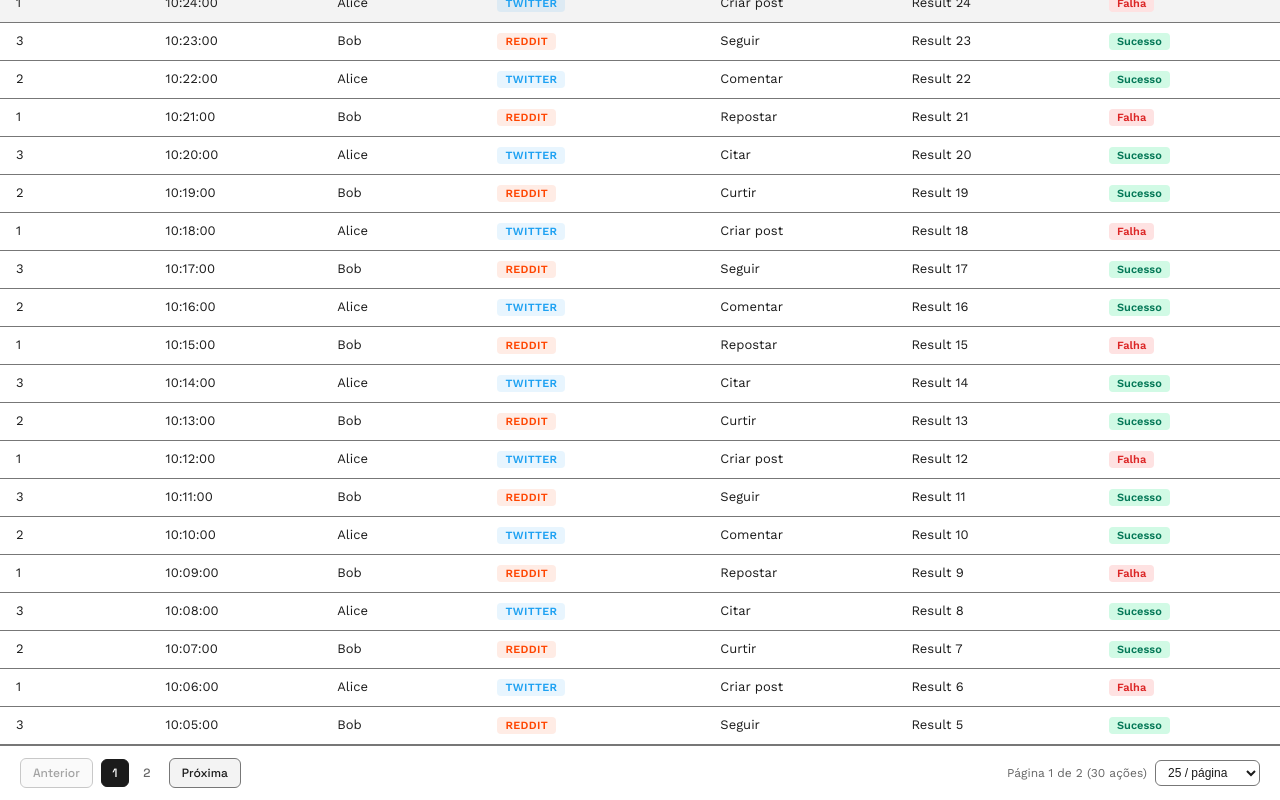
Test: ActionExplorer › shows only pageSize rows per page
The width and height of the screenshot is (1280, 800).
(page scrolled)
Note: Change page size to 10
Select "10 / página" in the dropdown at (1208, 773), box [1155,760,1260,786]
(page scrolled)
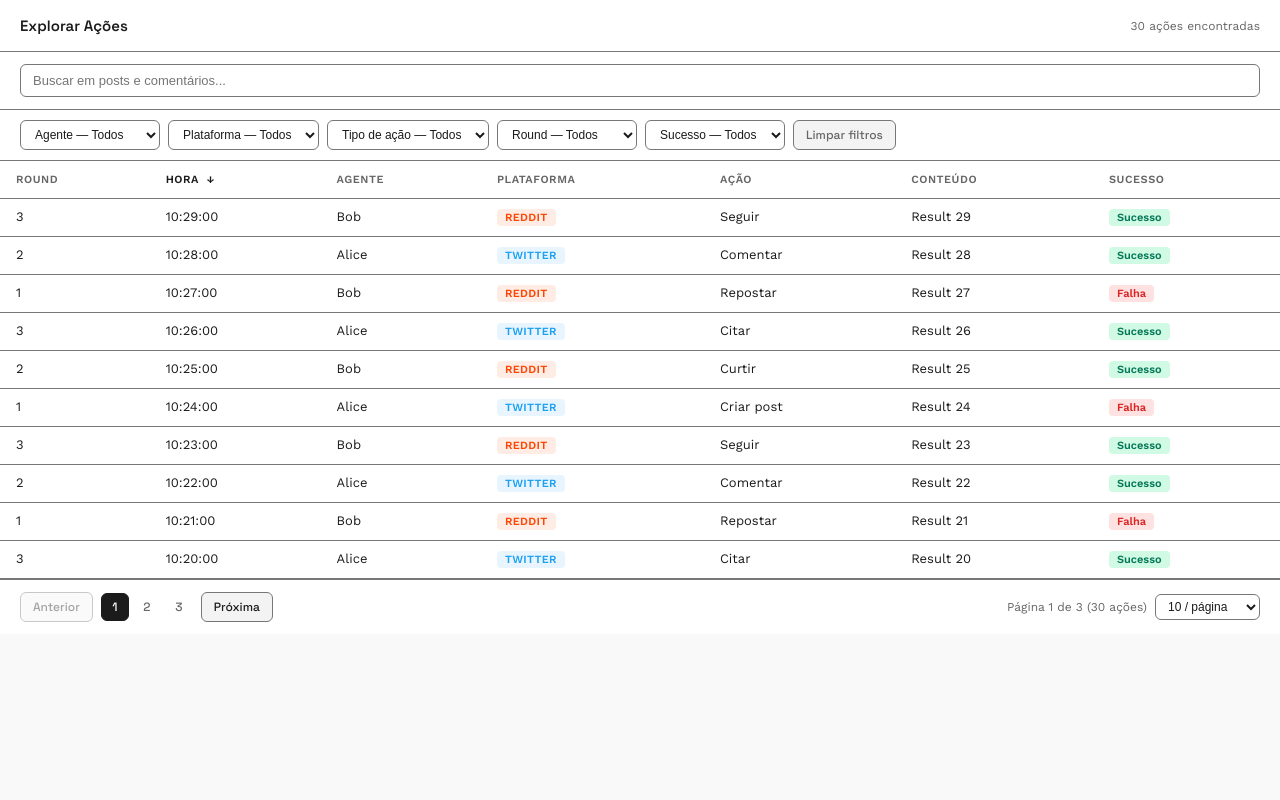
Expected: the number of rows with class "explorer-row" is 10
